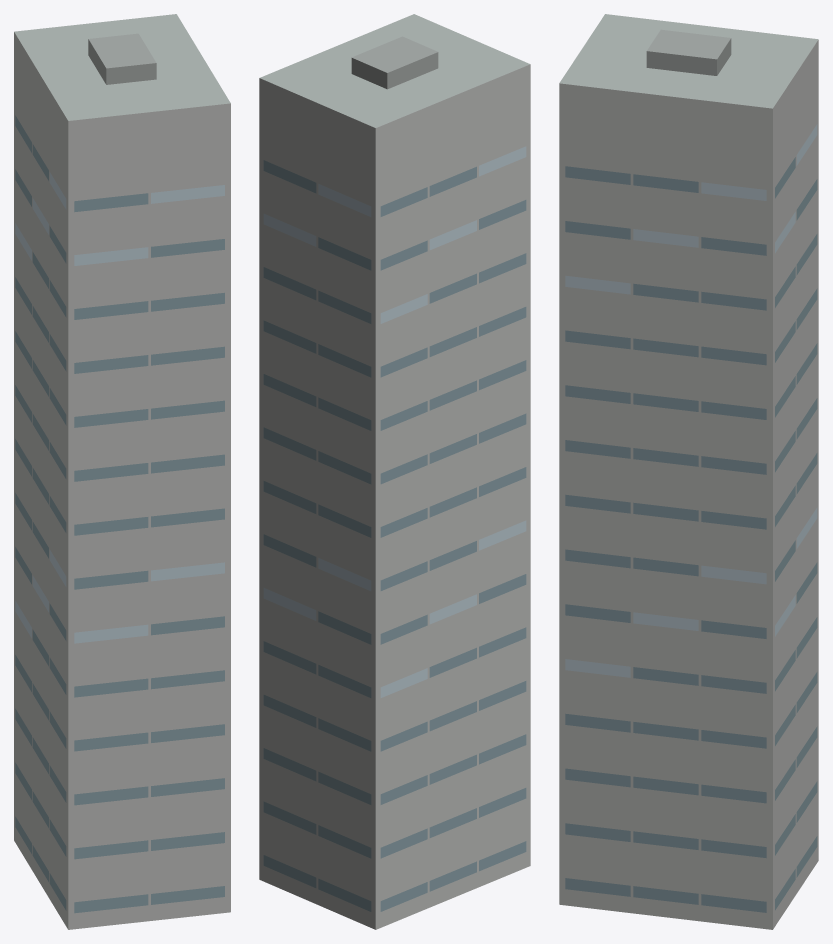
File: fallback-olympic-park-foreon-119.glb
The picture shows the model from 3 angles, left to right: view 1: azimuth 30°, elevation 25°; view 2: azimuth 150°, elevation 25°; view 3: azimuth 270°, elevation 25°; orthographic projection. The views are drawn at different scales.
Visible parts, largest first — view 1: fallback-olympic-park-foreon-119; view 2: fallback-olympic-park-foreon-119; view 3: fallback-olympic-park-foreon-119.
Part boxes in pixels (x1,y1,x2,y2): fallback-olympic-park-foreon-119: [14, 14, 230, 929]; fallback-olympic-park-foreon-119: [259, 14, 530, 929]; fallback-olympic-park-foreon-119: [559, 14, 818, 929].
Size of the model in its own units: 29.06 by 120 by 33.67.
